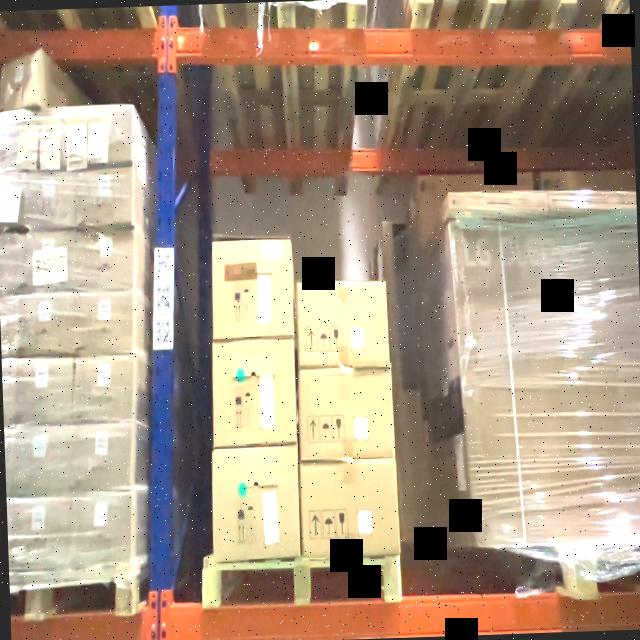box: (463, 223, 640, 540), (214, 447, 302, 558), (300, 463, 399, 556), (214, 341, 298, 446), (299, 368, 394, 459), (212, 239, 294, 339), (299, 278, 388, 366), (72, 495, 132, 565), (12, 358, 74, 424), (66, 107, 133, 166), (13, 501, 72, 568), (76, 358, 135, 422), (13, 428, 70, 494), (74, 426, 132, 490), (78, 292, 134, 351), (79, 232, 133, 289), (19, 294, 72, 352), (78, 170, 132, 226), (21, 234, 72, 288), (26, 175, 74, 227), (548, 190, 636, 216), (0, 54, 42, 107), (0, 114, 37, 171), (0, 176, 21, 228), (0, 236, 19, 289), (1, 298, 18, 354), (2, 359, 15, 426), (4, 431, 15, 496), (6, 498, 16, 568)
